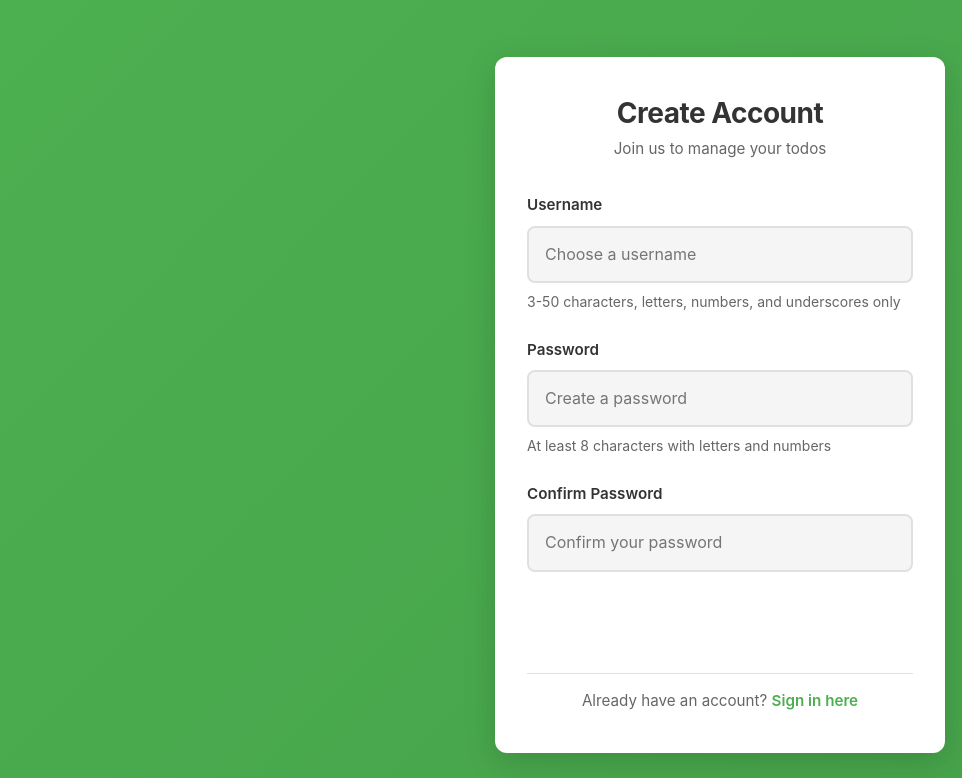
Test case: SignupPage.vue › Password Validation › shows error for password shorter than 8 characters
Type "Pass1" into the password field labelled "Password".
click(720, 399); type("Pass1")  # box [527,370,913,428]
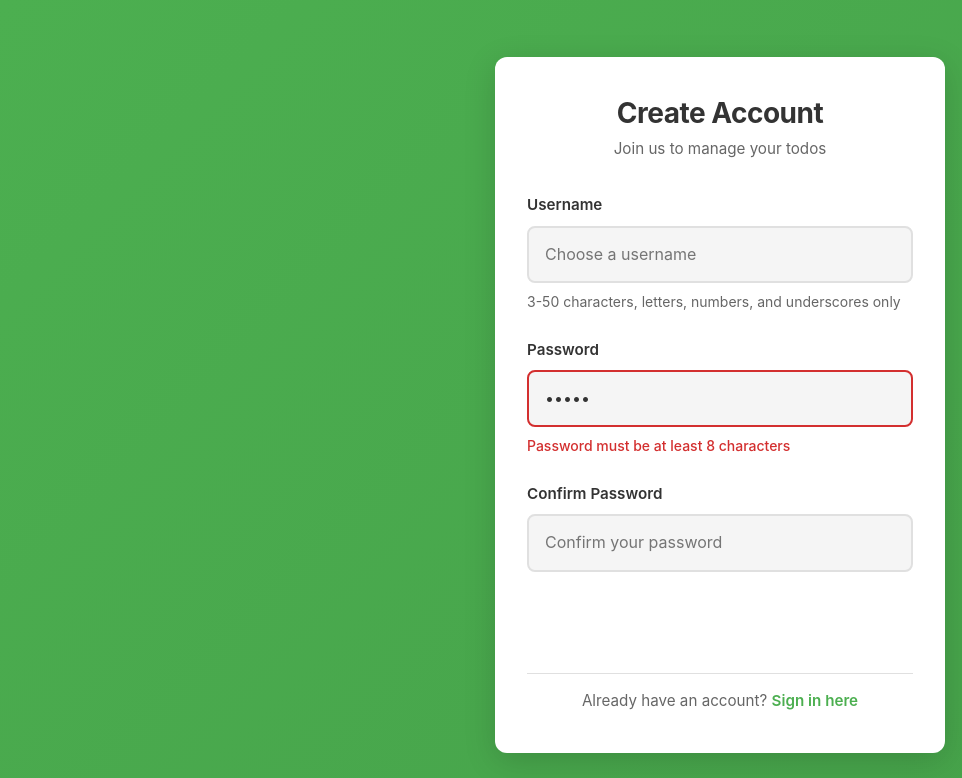
expect the message "Password must be at least 8 characters" is shown: met, box [527,438,790,454]
